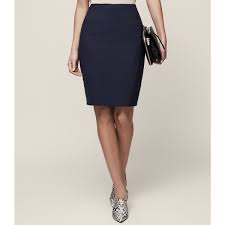F_tailored skirt: (78, 2, 149, 110)
